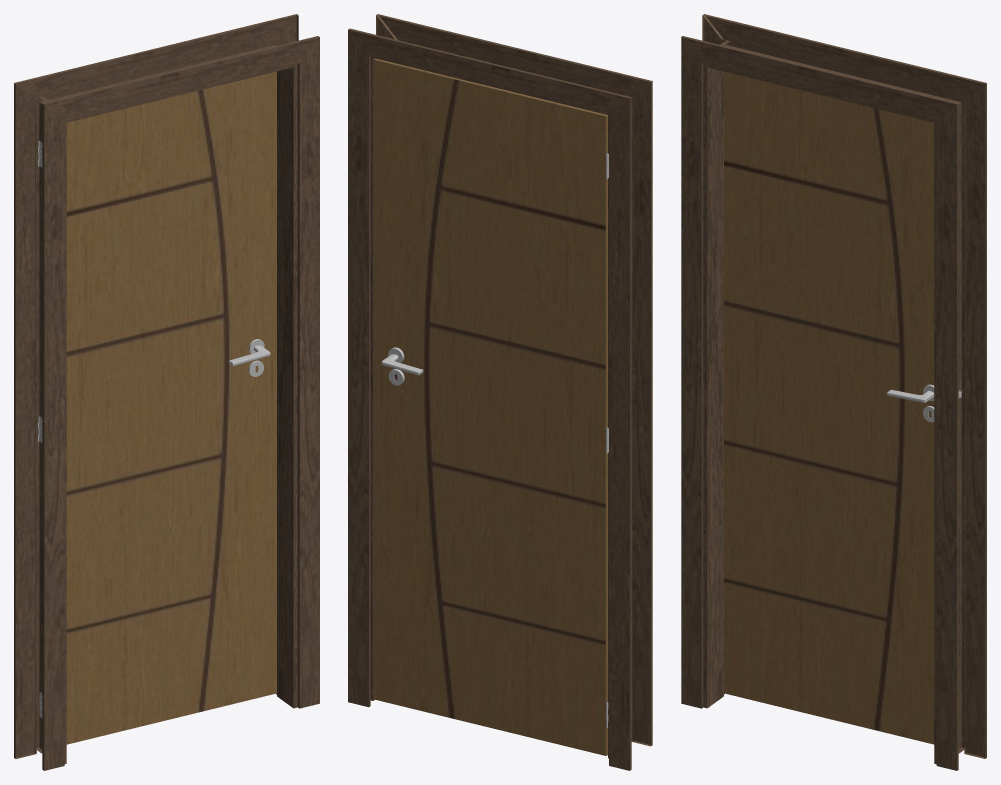
The model's file is white_plastic_door.gltf.
3 views of the same model, side by side, from view 1: azimuth 30°, elevation 25°; view 2: azimuth 150°, elevation 25°; view 3: azimuth 330°, elevation 25° (orthographic).
Visible parts, largest first — view 1: Porta pB186, Cube.003, Cube.006, Cube.002, Cube.005, Cube.004, Cube.009, Cube.008, Cube.001; view 2: Porta pB186, Cube.002, Cube.007, Cube.003, Cube.008, Cube.009, Cube.005, Cube.004; view 3: Porta pB186, Cube.006, Cube.003, Cube.007, Cube.004, Cube.005, Cube.009, Cube.008, Cube.001.
Part boxes in pixels (x1,y1,x2,y2): Porta pB186: [66, 71, 276, 744]; Cube.003: [42, 103, 64, 770]; Cube.006: [297, 37, 319, 708]; Cube.002: [14, 83, 36, 758]; Cube.005: [275, 44, 297, 708]; Cube.004: [35, 102, 66, 763]; Cube.009: [42, 36, 319, 120]; Cube.008: [14, 14, 297, 99]; Cube.001: [35, 39, 293, 122]; Porta pB186: [374, 58, 607, 755]; Cube.002: [609, 97, 631, 770]; Cube.007: [348, 30, 370, 707]; Cube.003: [631, 81, 652, 746]; Cube.008: [348, 28, 630, 114]; Cube.009: [376, 14, 652, 97]; Cube.005: [370, 57, 375, 700]; Cube.004: [608, 115, 608, 758]; Porta pB186: [724, 71, 934, 744]; Cube.006: [936, 103, 958, 770]; Cube.003: [681, 37, 703, 708]; Cube.007: [964, 83, 986, 758]; Cube.004: [703, 45, 725, 708]; Cube.005: [934, 102, 965, 764]; Cube.009: [681, 36, 958, 120]; Cube.008: [702, 14, 986, 99]; Cube.001: [707, 39, 965, 122].
Bounding box in the file's own units: 0.9672 × 2.21 × 0.2205.
Materials: 7 (3 with a texture image).
